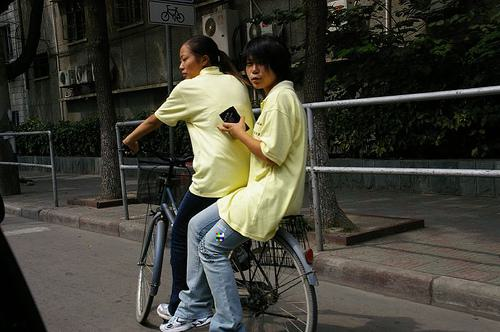car: (121, 143, 320, 332)
person: (159, 33, 307, 332), (121, 35, 257, 321)
